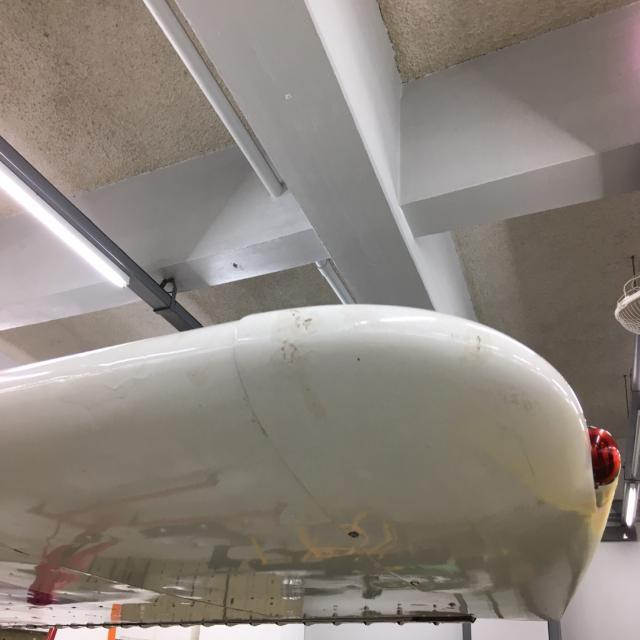Crack: (264, 312, 334, 391), (441, 325, 494, 380)
